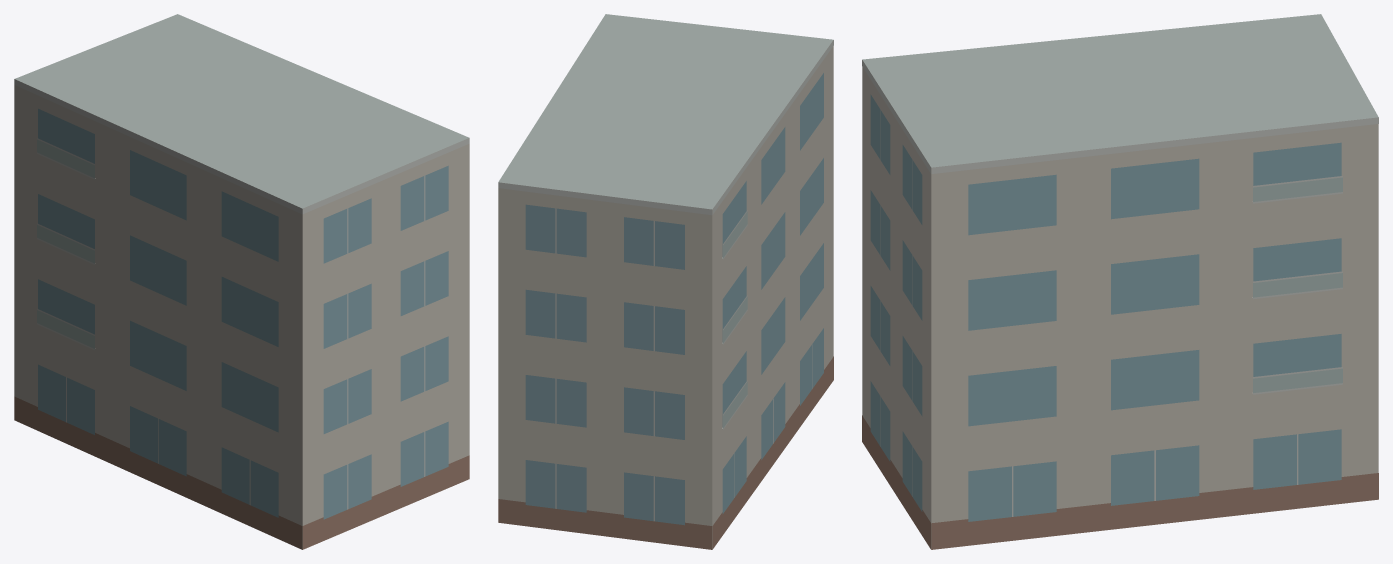
File: survey-upis-32672506.glb
The picture shows the model from 3 angles, left to right: view 1: azimuth 30°, elevation 25°; view 2: azimuth 150°, elevation 25°; view 3: azimuth 270°, elevation 25°; orthographic projection. The views are drawn at different scales.
Parts seen in each view (by area): view 1: survey-upis-32672506.tmp; view 2: survey-upis-32672506.tmp; view 3: survey-upis-32672506.tmp.
Boxes of the visible parts, x1,y1,x2,y2 form: survey-upis-32672506.tmp: (14, 14, 469, 549); survey-upis-32672506.tmp: (498, 14, 833, 549); survey-upis-32672506.tmp: (862, 14, 1378, 549).
Size of the model in its own units: 12.34 by 14.3 by 17.53.
